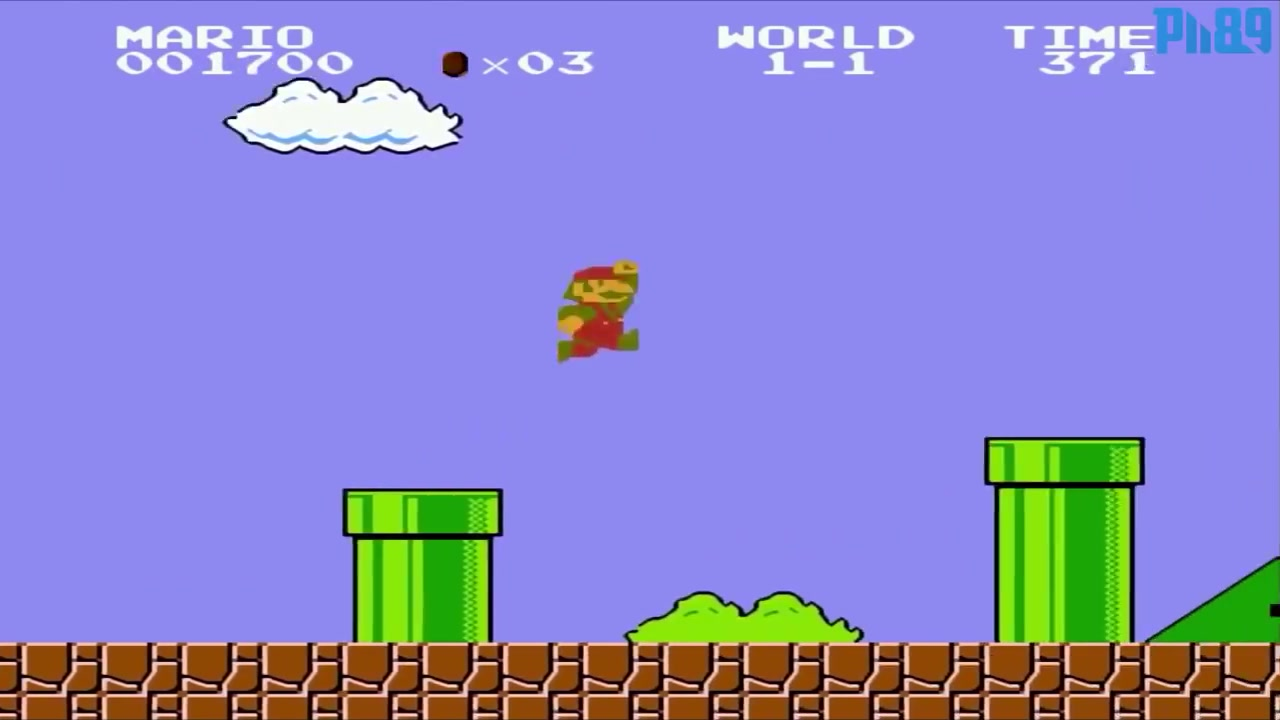mario: (546, 244, 664, 379)
